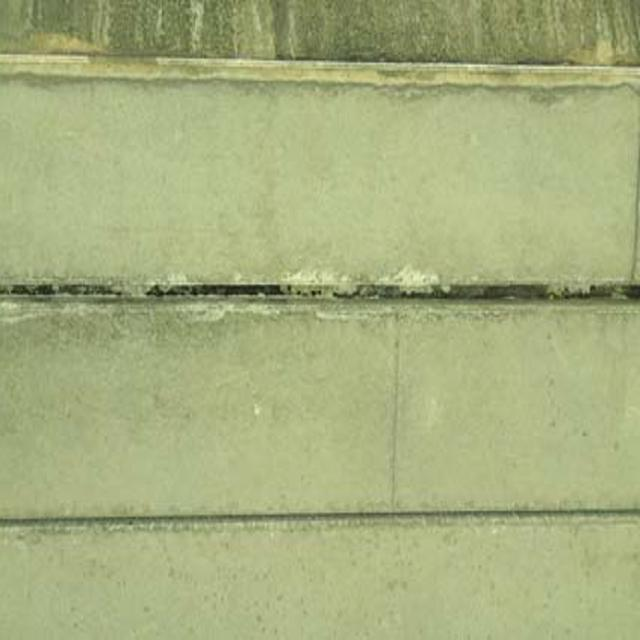freelime: (13, 253, 457, 344)
